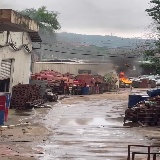fire: (119, 72, 133, 83)
